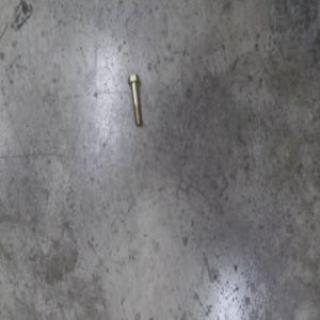Bolttrack_idkeyframe: (128, 71, 142, 124)
